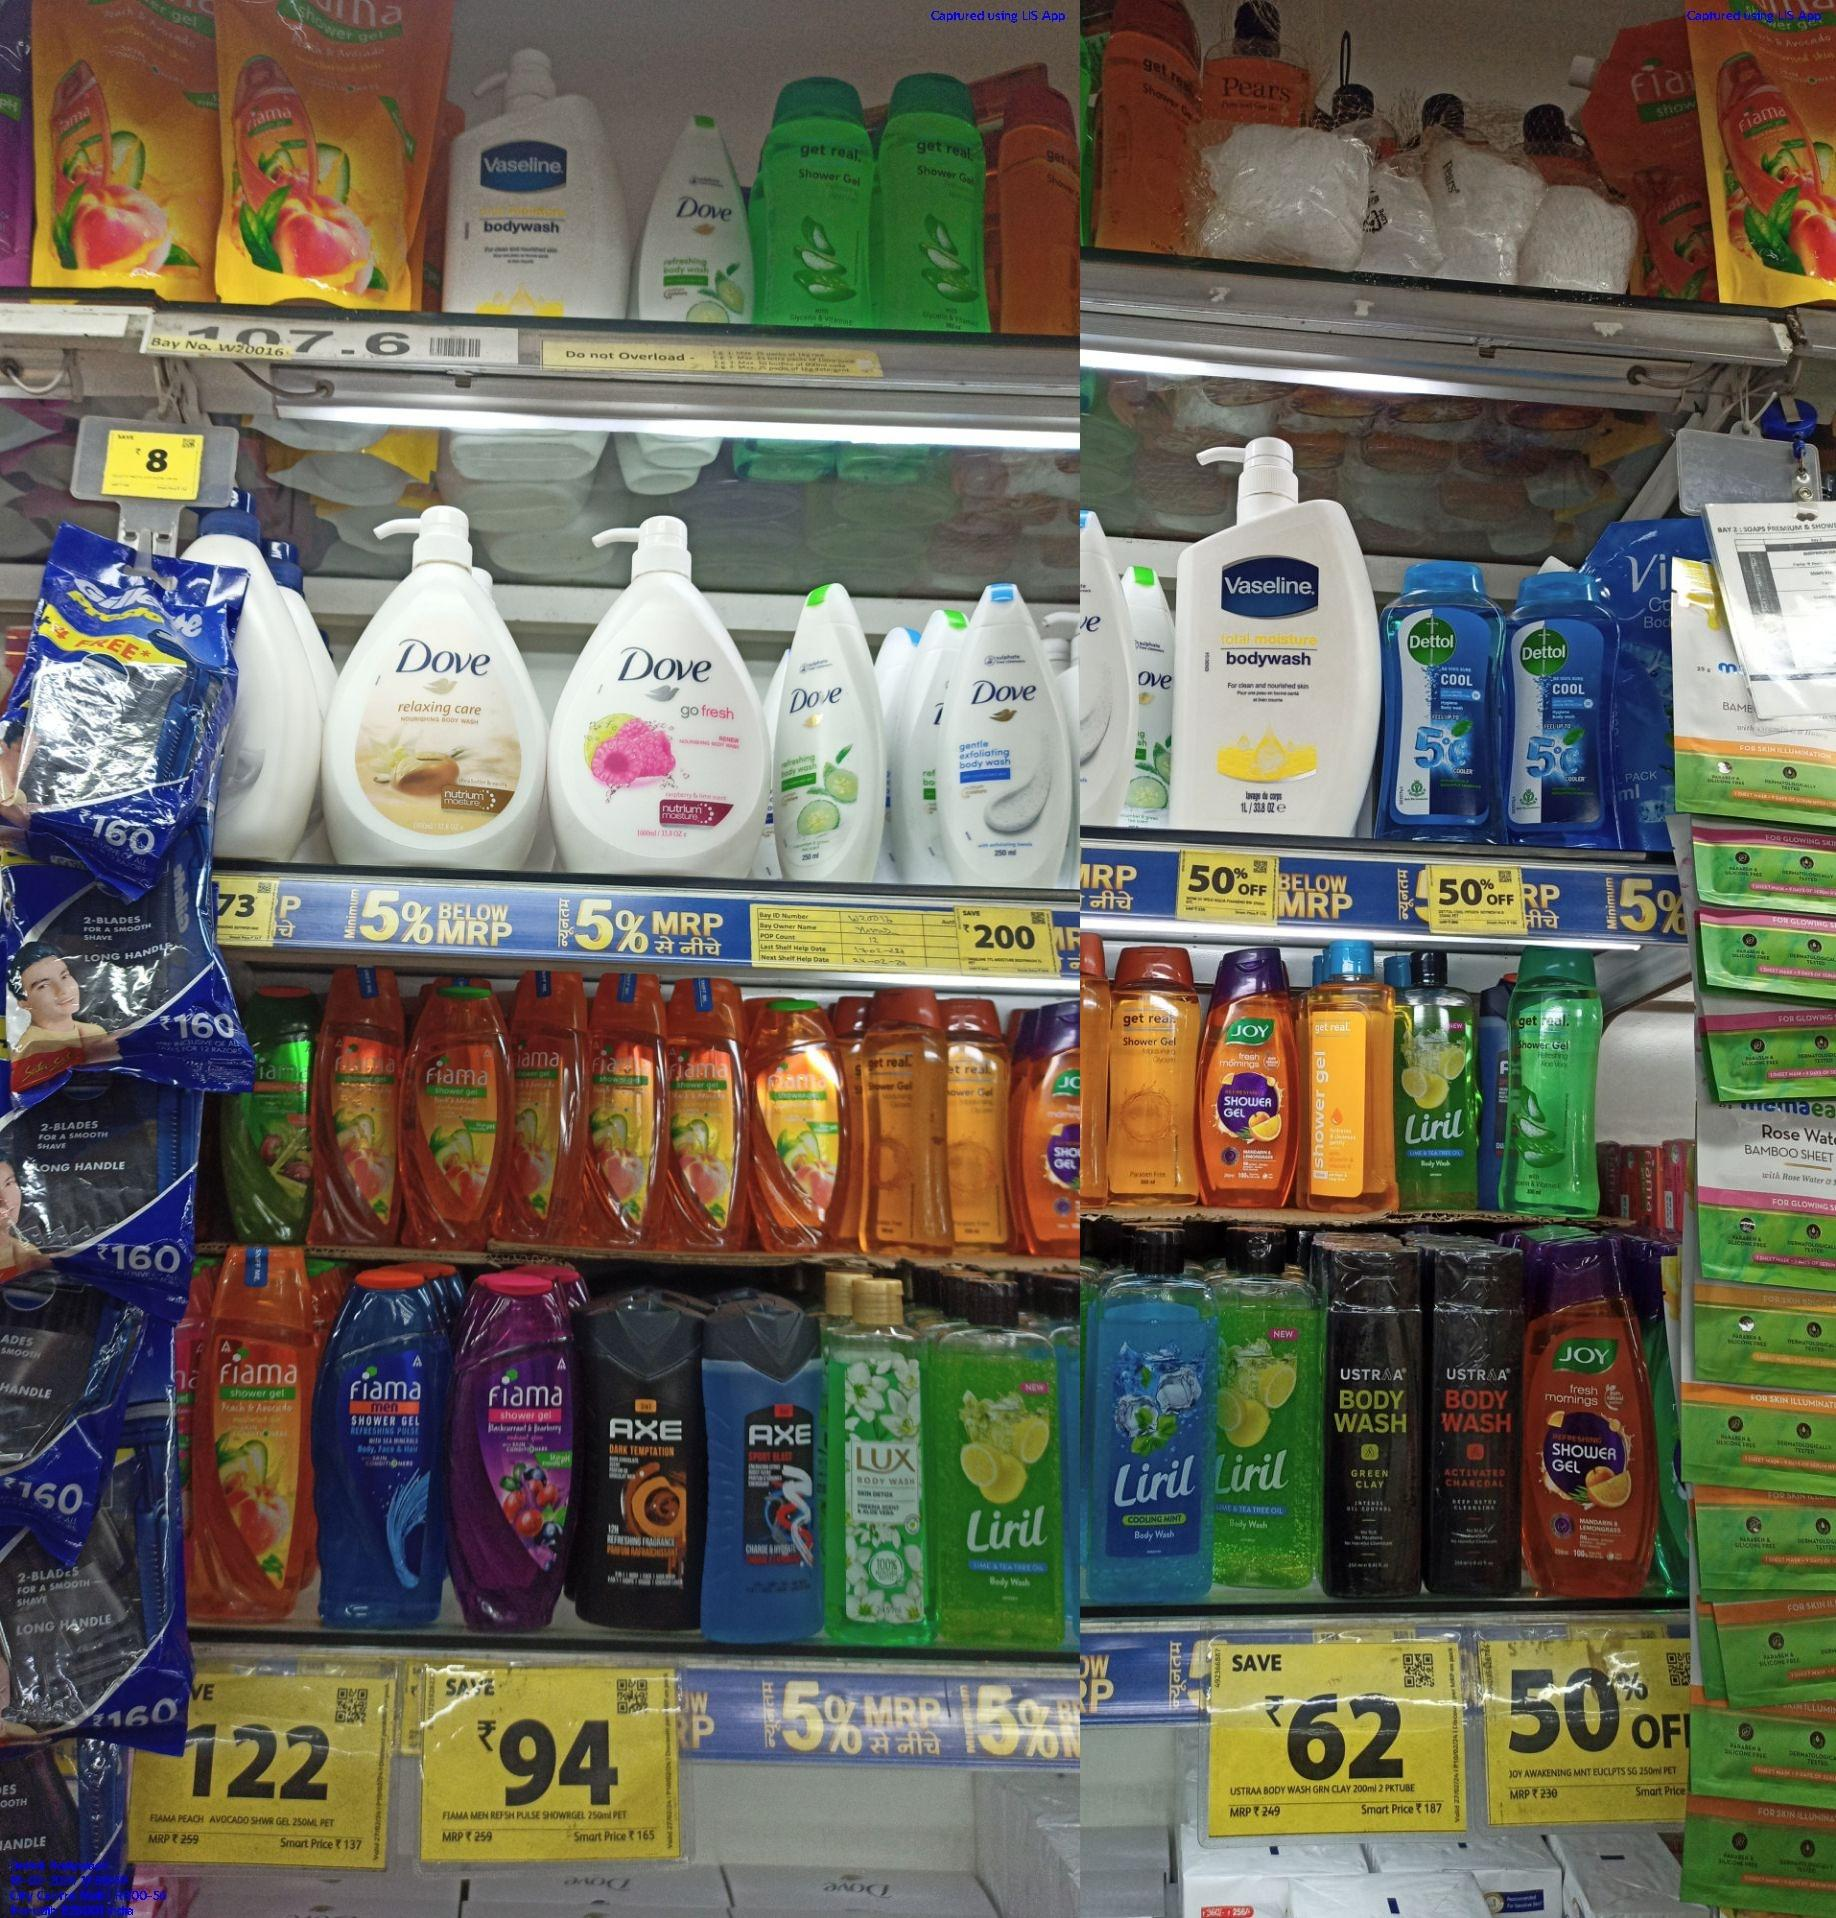Dettol_Bodywash_Cool: (1374, 562, 1500, 839), (1502, 557, 1615, 848)
Dove_Gentle_Exfoliating_Body_Wash_250ML: (945, 581, 1074, 884)
Dove_Refreshing_Body_Wash_250ML: (772, 579, 889, 879)
Fiama_Shower_Gel_Peach_and_Avocado_250ML: (402, 976, 497, 1250), (752, 992, 843, 1254)
Get_Real_Shower_Gel_Moisturising_Glycerin_300ML: (1112, 944, 1201, 1209)
Joy_Shower_Gel_Mandarin_and_Lemongrass_250ML: (1531, 1233, 1654, 1599), (1202, 940, 1298, 1207)
Liril_Cooling_Mint_Body_Wash_250ML: (1089, 1245, 1213, 1605)
Liril_Lime_and_Tea_Tree_Oil_Body_Wash_250ML: (937, 1283, 1064, 1651), (1214, 1236, 1317, 1589), (1398, 947, 1476, 1206)
Lux_Body_Wash_Skin_Detox_Freesia_Scent_and_Alove_Vera_245ML: (829, 1269, 932, 1646)
